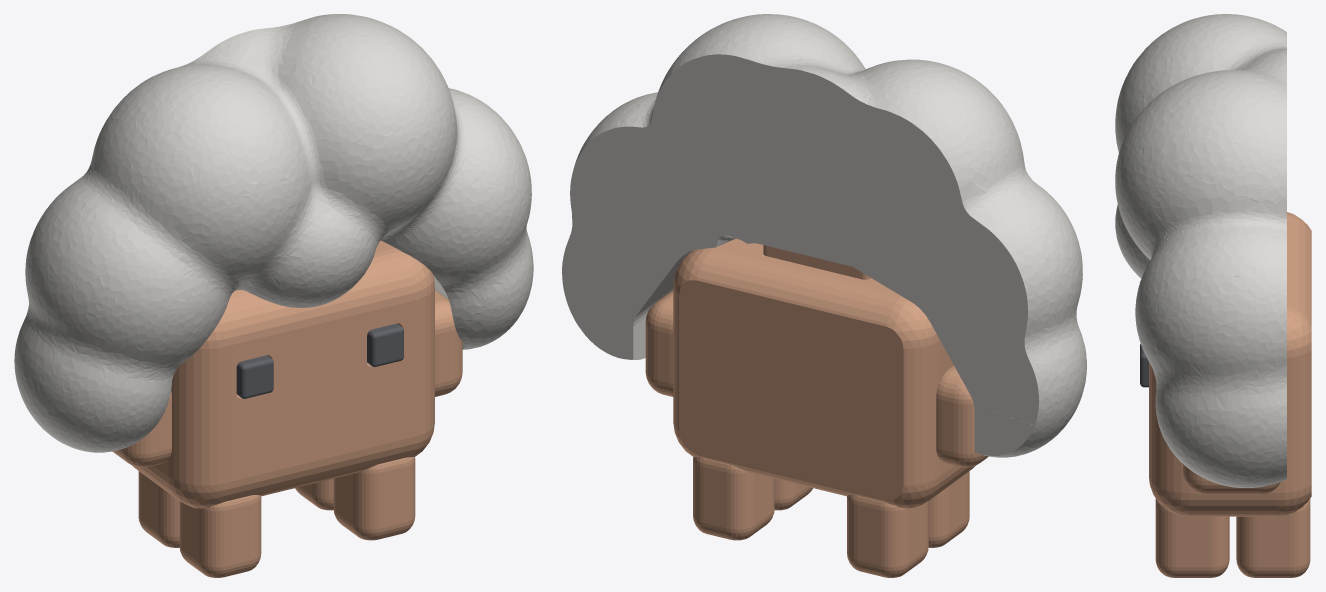
Rendered from A3-assembled.glb.
3 renders of one model, left to right at view 1: azimuth 30°, elevation 25°; view 2: azimuth 150°, elevation 25°; view 3: azimuth 270°, elevation 25°, orthographic.
Visible parts, largest first — view 1: A3_cloud, A3_clawd, A3_clawd_eye_1, A3_clawd_eye_2; view 2: A3_cloud, A3_clawd; view 3: A3_cloud, A3_clawd, A3_clawd_eye_2.
Boxes of the visible parts, x1,y1,x2,y2 form: A3_cloud: [14, 14, 533, 452]; A3_clawd: [113, 240, 462, 577]; A3_clawd_eye_1: [236, 355, 273, 398]; A3_clawd_eye_2: [367, 323, 403, 366]; A3_cloud: [562, 14, 1086, 457]; A3_clawd: [645, 238, 988, 577]; A3_cloud: [1115, 14, 1286, 487]; A3_clawd: [1149, 212, 1311, 577]; A3_clawd_eye_2: [1140, 344, 1148, 387].
Size of the model in its own units: 0.0509 by 0.048 by 0.0178.
